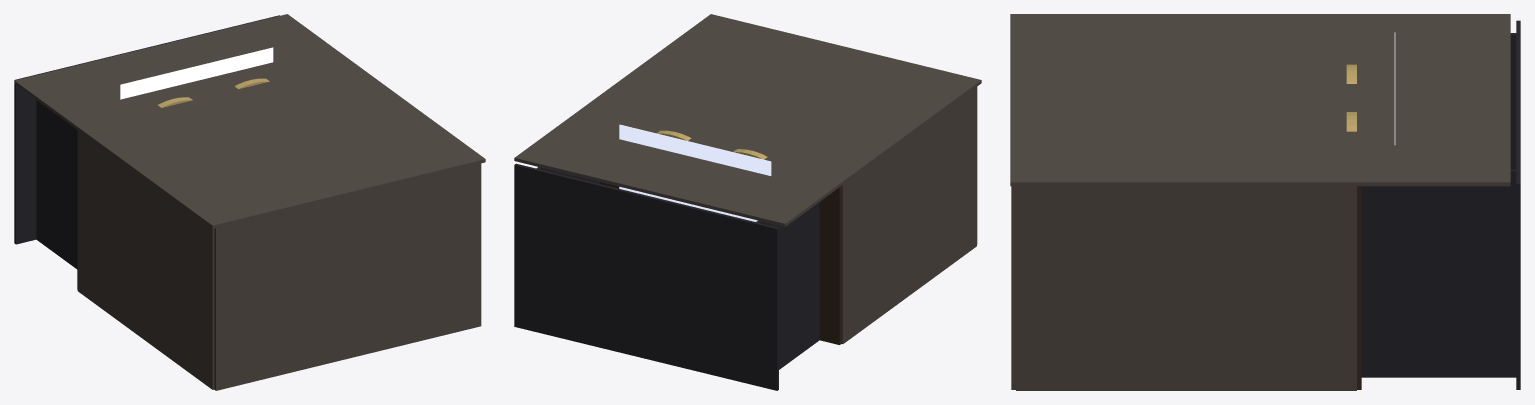
Rendered from theatre-web.glb.
3 renders of one model, left to right at view 1: azimuth 30°, elevation 25°; view 2: azimuth 150°, elevation 25°; view 3: azimuth 270°, elevation 25°, orthographic. The views are drawn at different scales.
Parts seen in each view (by area): view 1: Ceiling, Wall_AudBack, Wall_AudLeft, Wall_StageLeft, Wall_Back, SGT_CinemaScreen; view 2: Ceiling, Wall_Back, Wall_AudLeft, Wall_StageLeft, Proscenium_FlankL, SGT_CinemaScreen; view 3: Ceiling, Wall_AudRight, Wall_StageRight, Wall_Back, Wall_AudBack, Proscenium_FlankR, Wall_StageLeft, SGT_Prosc_Arch.
Boxes of the visible parts, x1,y1,x2,y2 form: Ceiling: (14,14,485,228); Wall_AudBack: (214,163,481,390); Wall_AudLeft: (77,130,214,389); Wall_StageLeft: (36,100,77,269); Wall_Back: (14,15,279,244); SGT_CinemaScreen: (120,47,273,99); Ceiling: (514,14,981,226); Wall_Back: (514,163,778,390); Wall_AudLeft: (841,87,976,343); Wall_StageLeft: (755,202,819,369); Proscenium_FlankL: (819,186,841,344); SGT_CinemaScreen: (619,124,771,221); Ceiling: (1010,14,1510,186); Wall_AudRight: (1016,186,1356,390); Wall_StageRight: (1361,169,1518,377); Wall_Back: (1516,20,1520,389); Wall_AudBack: (1011,186,1015,389); Proscenium_FlankR: (1357,186,1361,389); Wall_StageLeft: (1510,33,1518,169); SGT_Prosc_Arch: (1346,64,1356,131).
Size of the model in its own units: 35 by 22.24 by 44.9.
